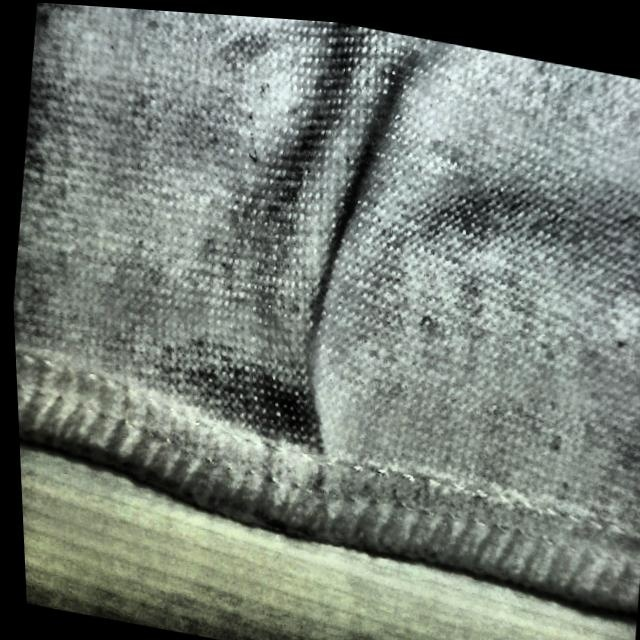seam: (200, 182, 408, 554)
